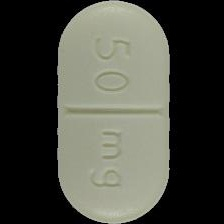68462-502: (0, 0, 224, 224)
